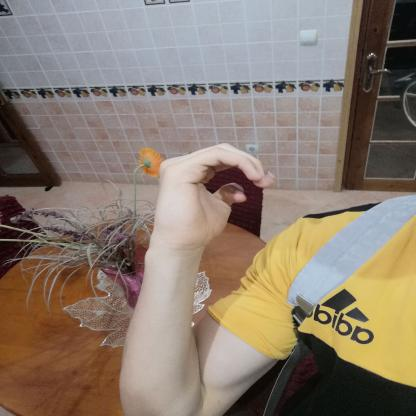JEEM: (136, 132, 281, 256)
